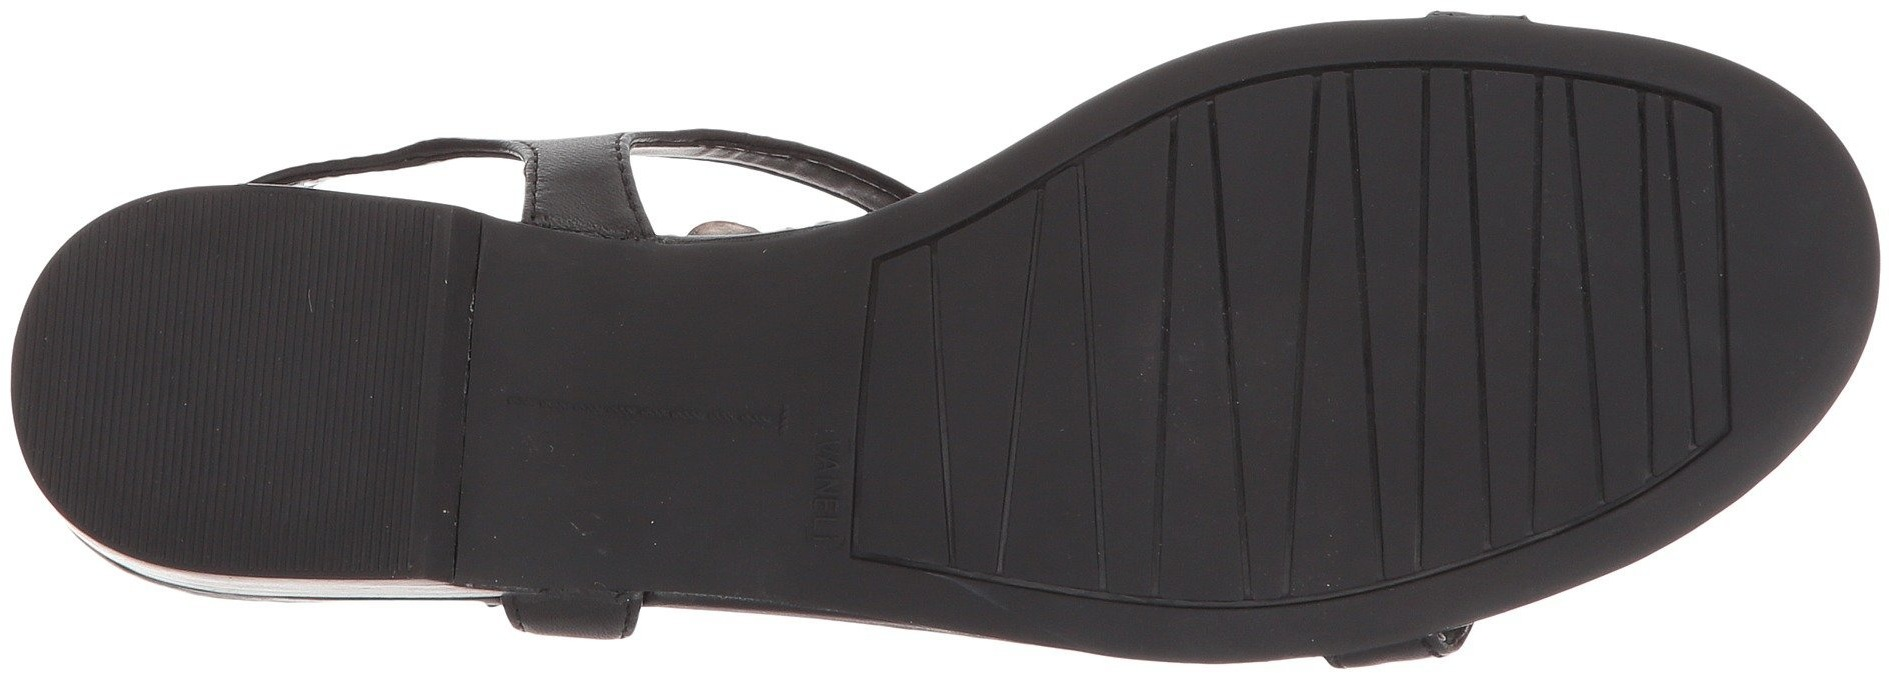line: (1057, 175, 1455, 535)
other: (92, 238, 395, 542), (539, 243, 704, 395)
